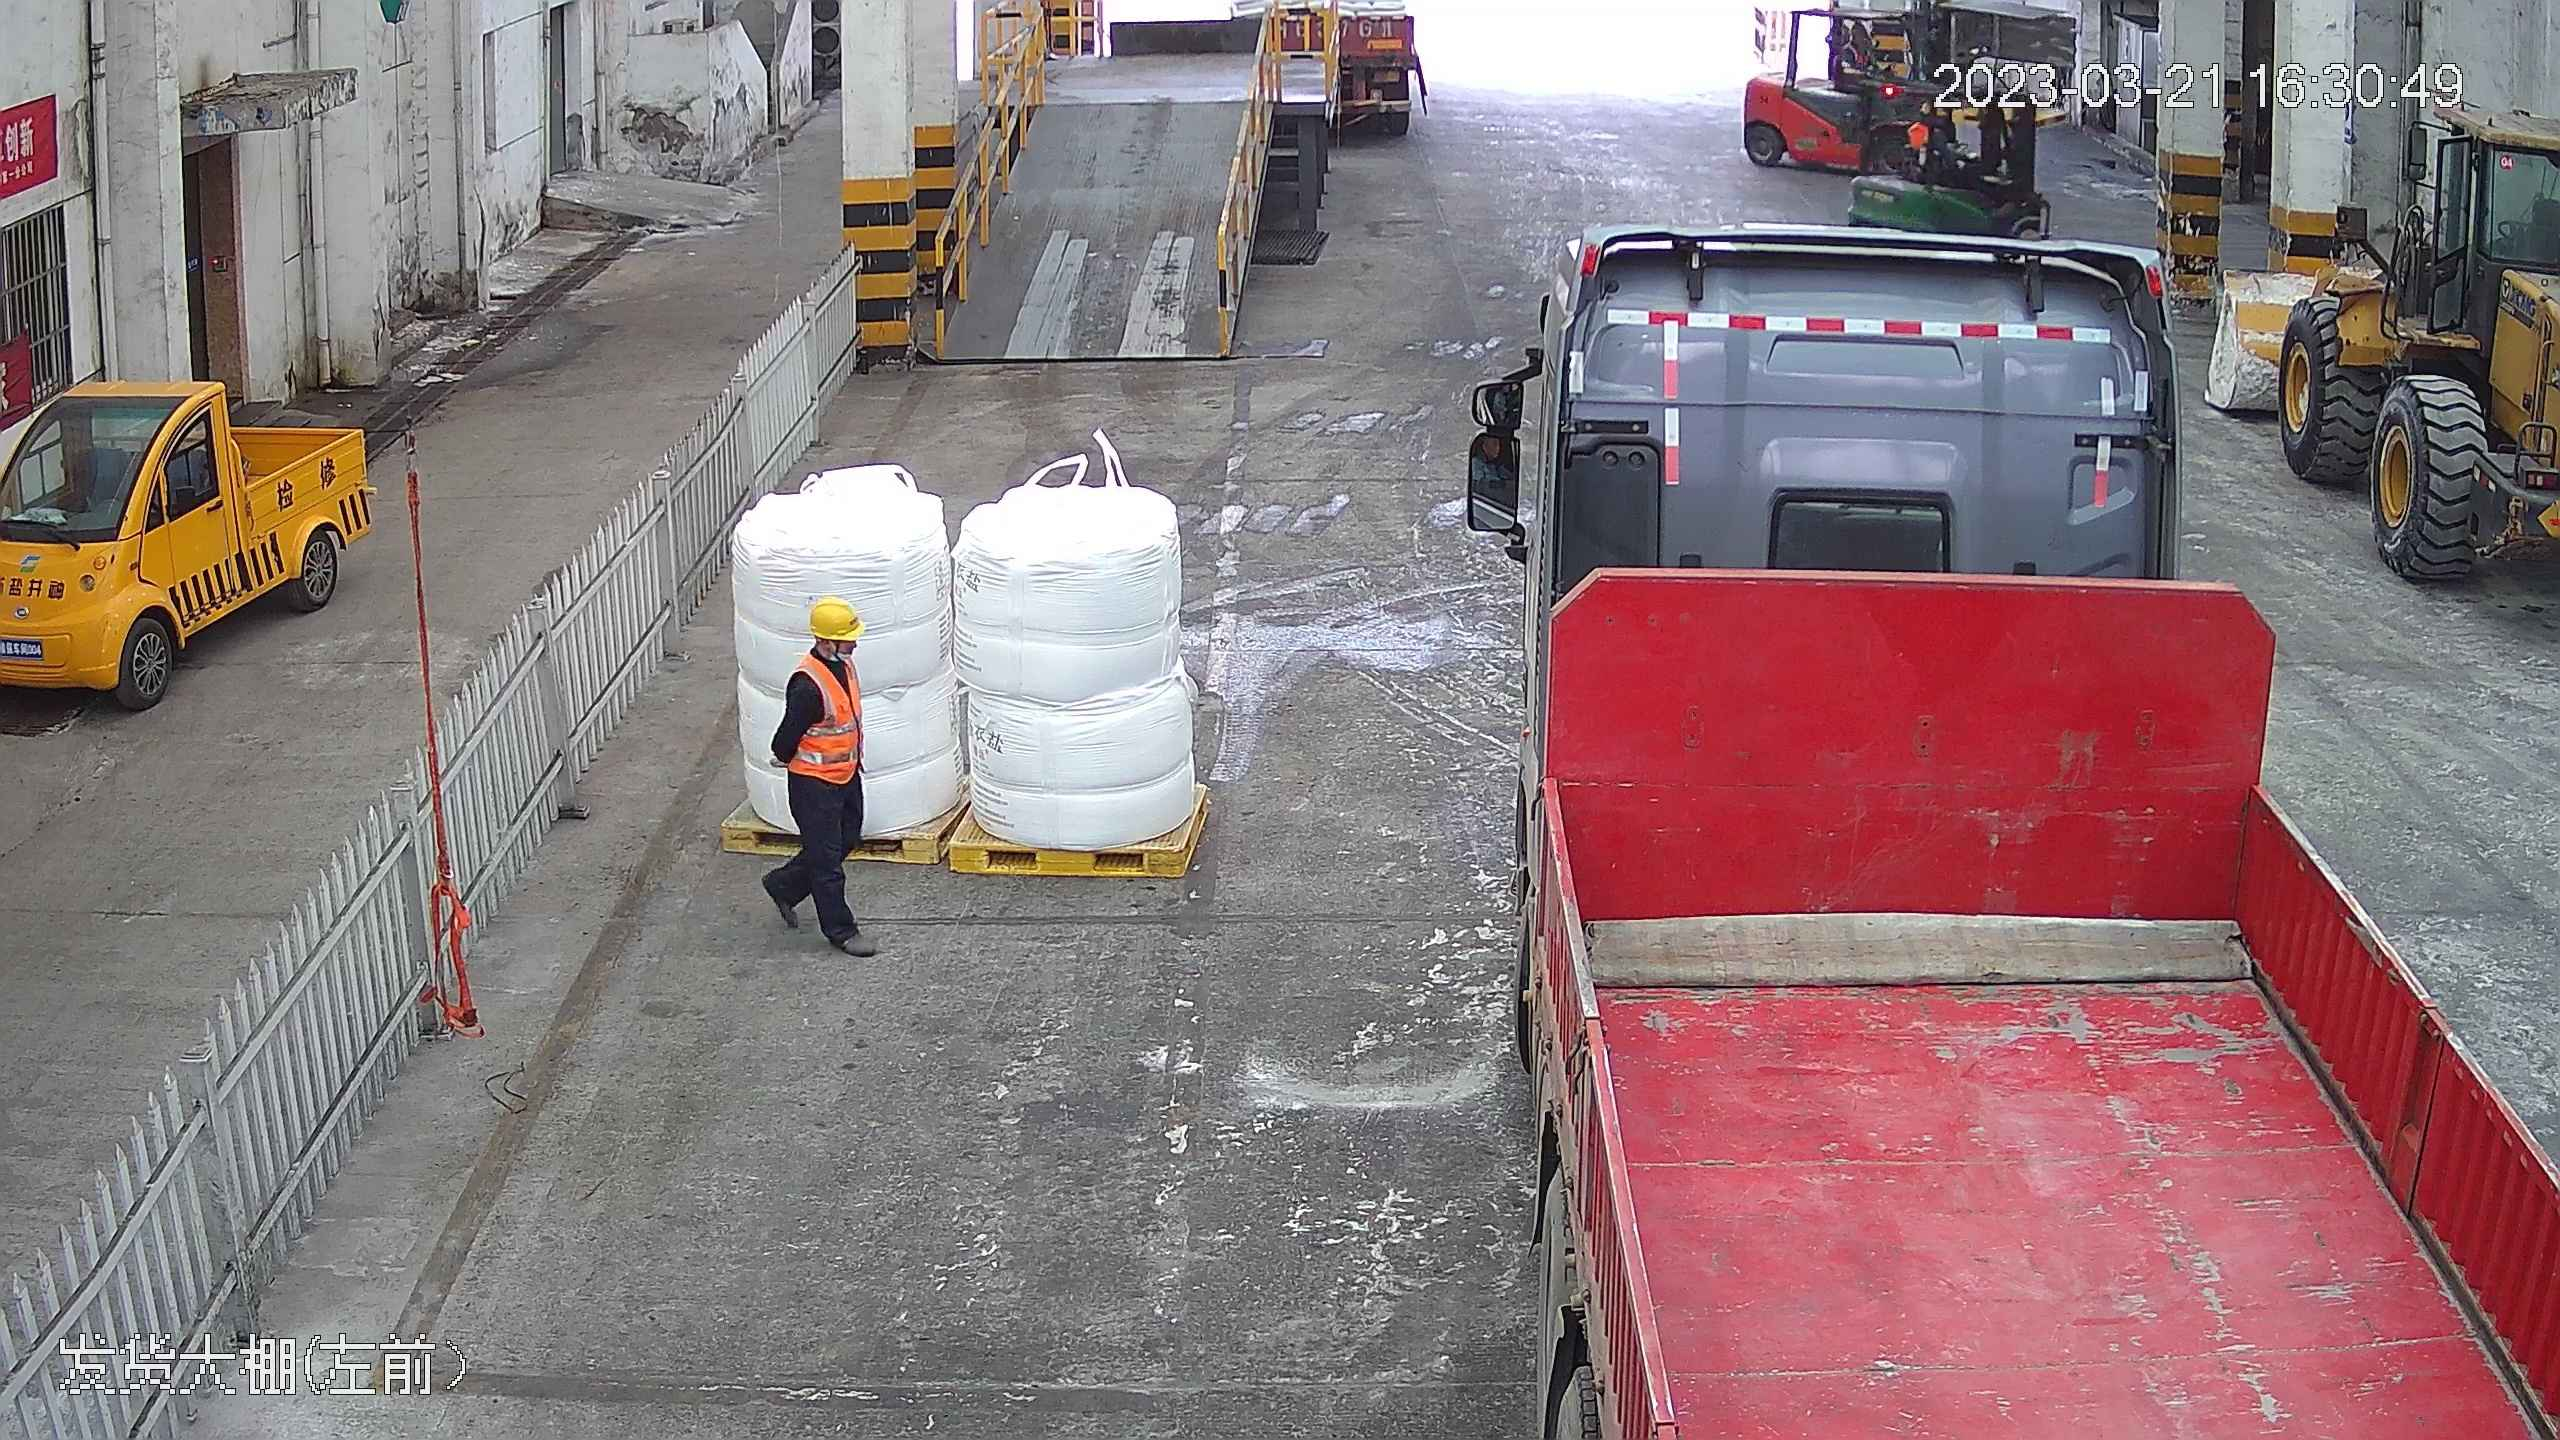head: (779, 591, 870, 710)
helmet: (805, 592, 867, 640)
people: (762, 593, 875, 956)
truck: (1451, 193, 2552, 1440)
